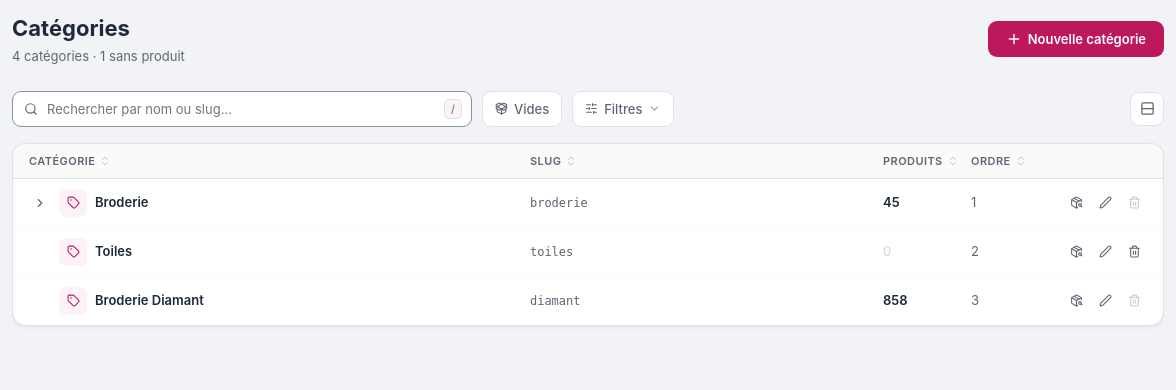
Test: Categories — arborescence › déplie un rayon au clic sur le chevron
Expected: the text "Broderie" is shown, [95, 193, 148, 212]
Click the button named "Afficher les sous-catégories": coordinates (40, 202) [29, 192, 51, 214]
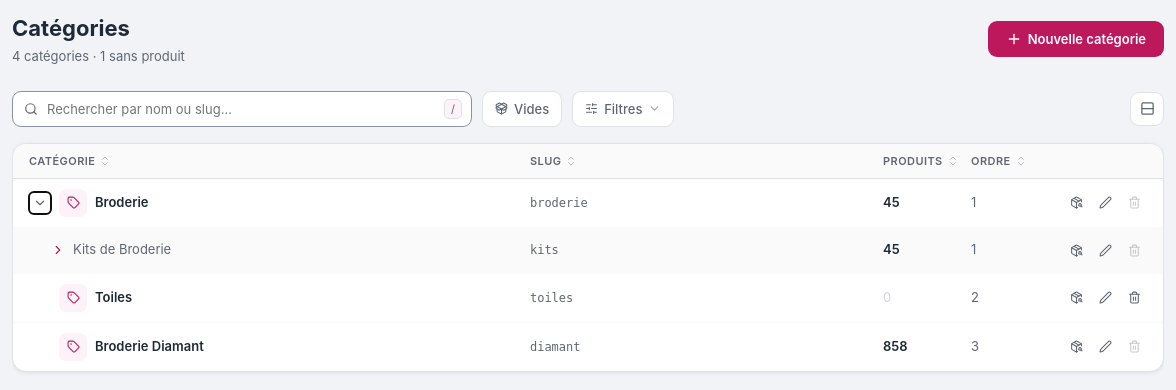
Expected: the text "Kits de Broderie" is shown, [73, 240, 171, 260]
